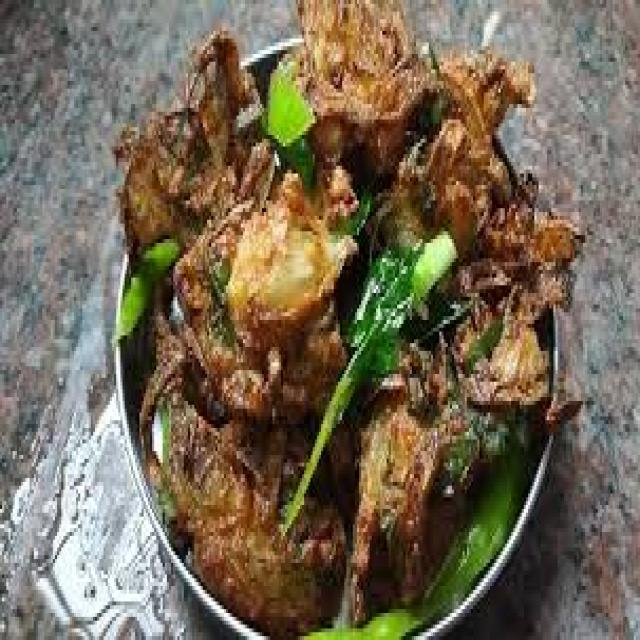BAJI: (113, 0, 588, 636)
